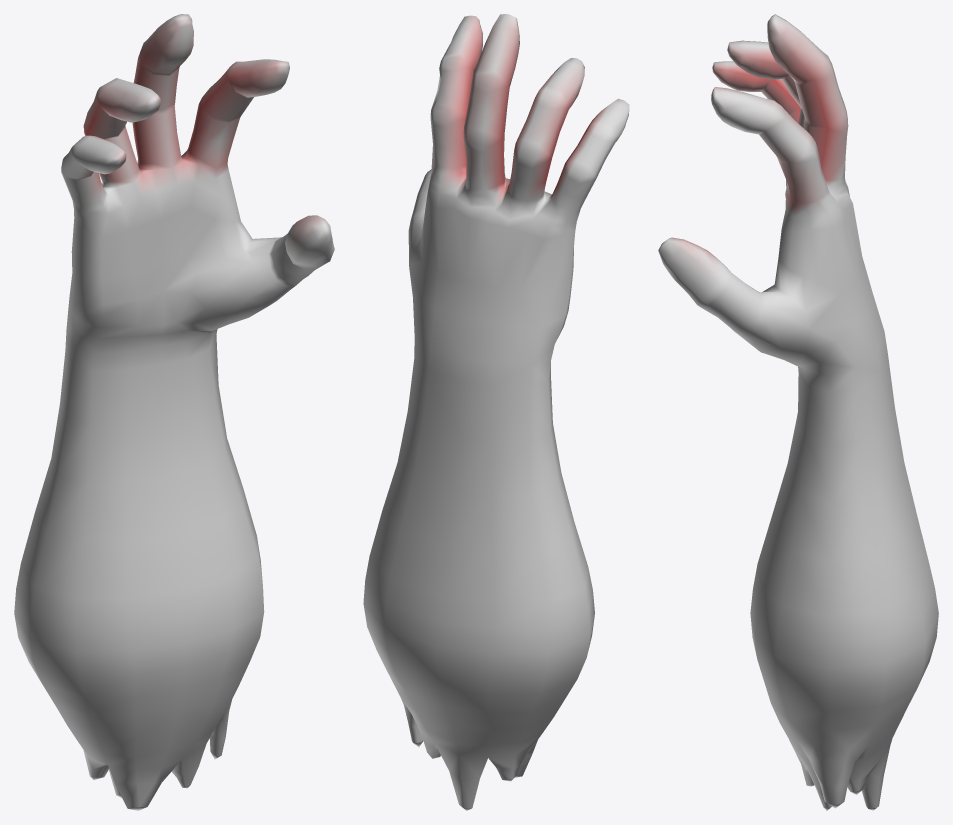
File: SM_WEP_D72NJ2_HND01_R.glb
3 views of the same model, side by side, from view 1: azimuth 30°, elevation 25°; view 2: azimuth 150°, elevation 25°; view 3: azimuth 270°, elevation 25° (orthographic). The views are drawn at different scales.
Visible parts, largest first — view 1: SM_WEP_D72NJ2_HND01_R; view 2: SM_WEP_D72NJ2_HND01_R; view 3: SM_WEP_D72NJ2_HND01_R.
Boxes of the visible parts, x1=… form: SM_WEP_D72NJ2_HND01_R: x1=14, y1=14, x2=334, y2=810; SM_WEP_D72NJ2_HND01_R: x1=363, y1=14, x2=629, y2=810; SM_WEP_D72NJ2_HND01_R: x1=658, y1=14, x2=938, y2=810.
Bounding box in the file's own units: 0.3151 × 1.03 × 0.33.
